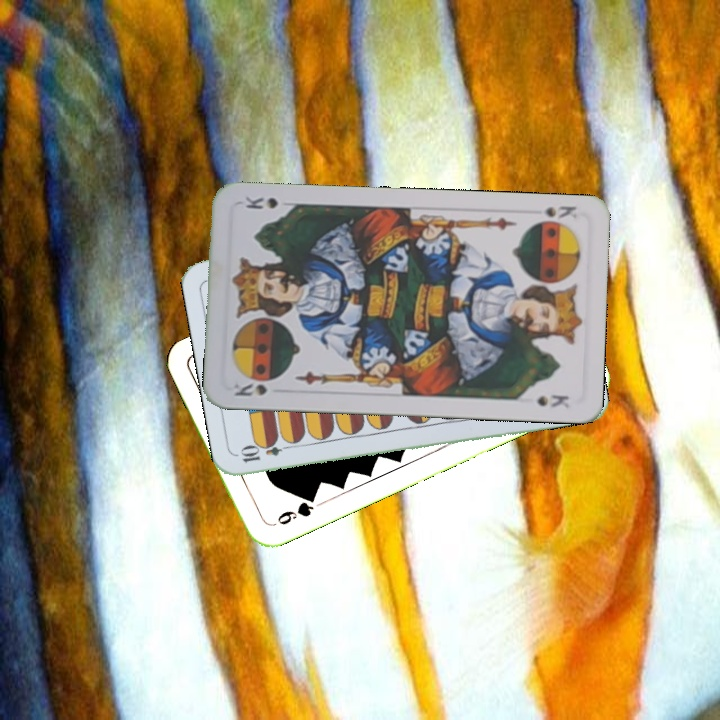E10: (236, 439, 296, 465)
G9: (273, 491, 319, 528)
SK: (230, 379, 270, 399), (541, 201, 580, 221)
